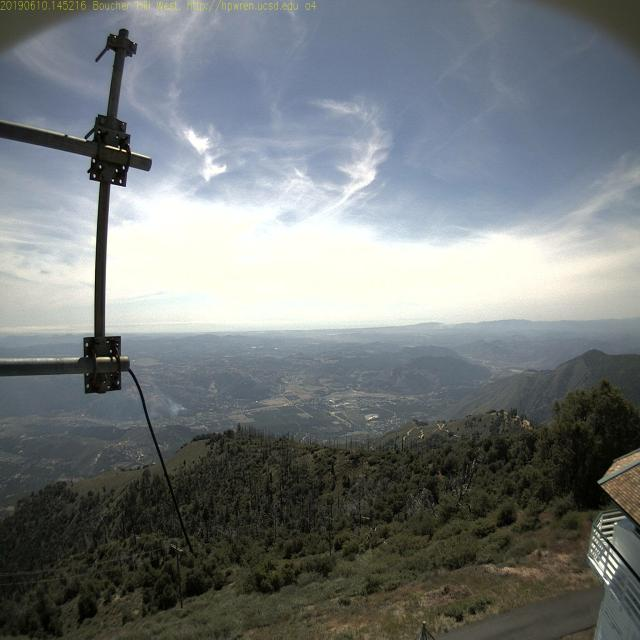smoke: (175, 390, 190, 420)
